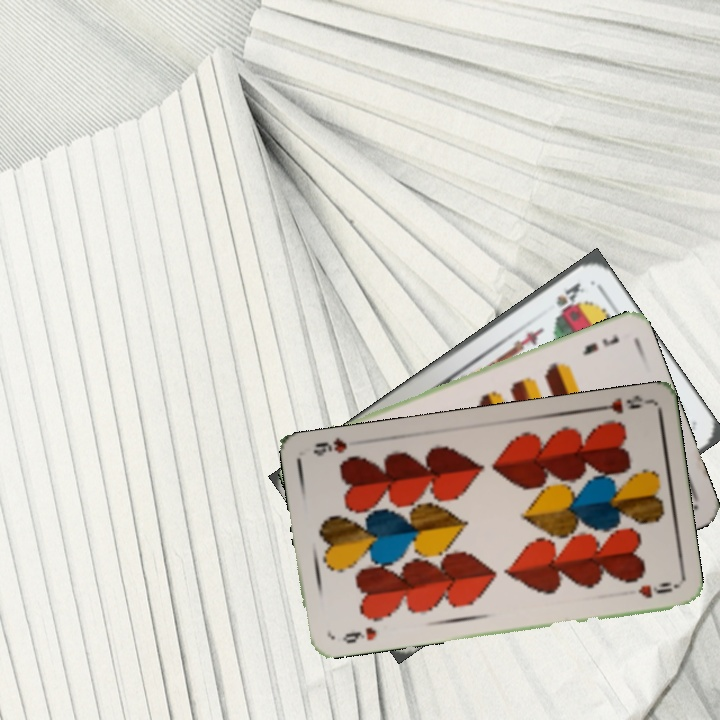E7: (578, 330, 622, 358)
H9: (592, 391, 651, 417), (338, 623, 379, 646)
SK: (552, 278, 587, 315)
